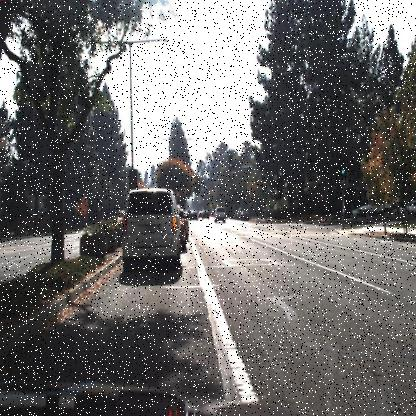car: (119, 188, 182, 274), (359, 194, 401, 219), (354, 195, 394, 219), (176, 204, 190, 253), (213, 201, 228, 225), (197, 208, 213, 224), (115, 208, 126, 229), (202, 209, 212, 223), (240, 208, 249, 223)
trafficLight-Green: (338, 157, 345, 176), (340, 158, 346, 178), (228, 150, 234, 168), (263, 181, 268, 196), (263, 188, 268, 202), (228, 154, 232, 170)
trafficLight-Red: (176, 190, 182, 206)
